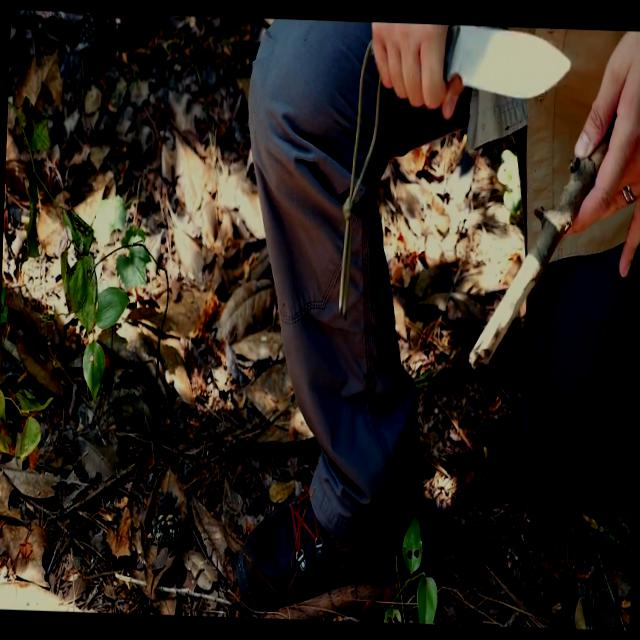knife: (412, 22, 576, 134)
